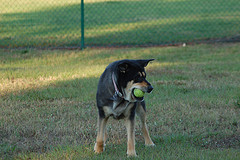tennis ball: (132, 86, 147, 98)
